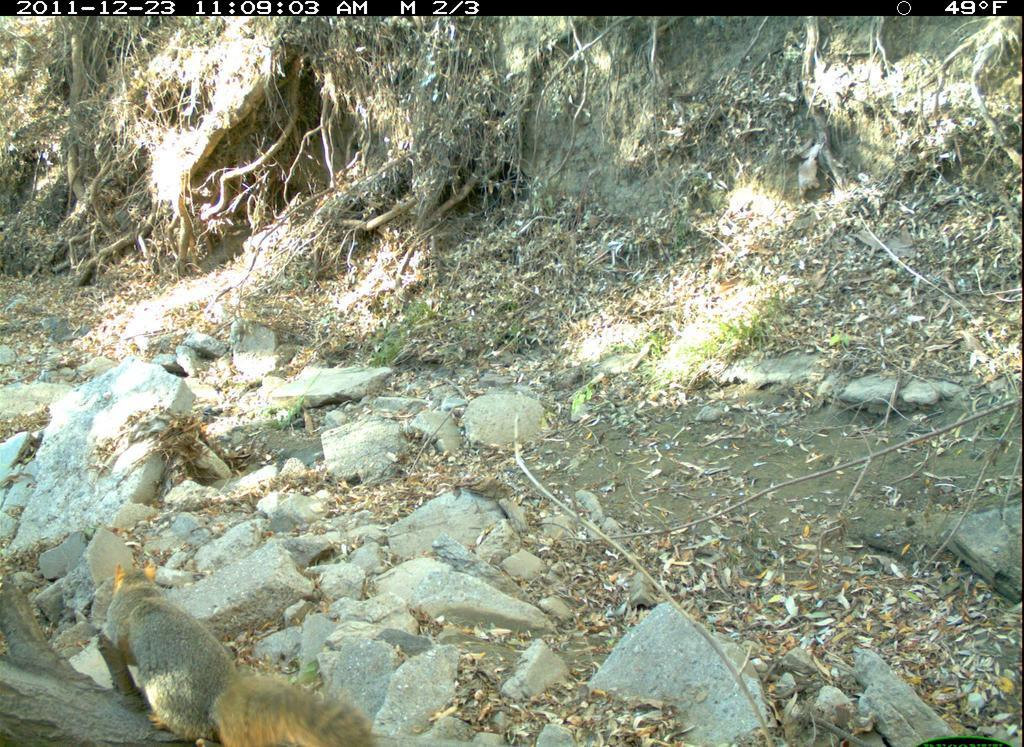squirrel: (89, 553, 382, 747)
